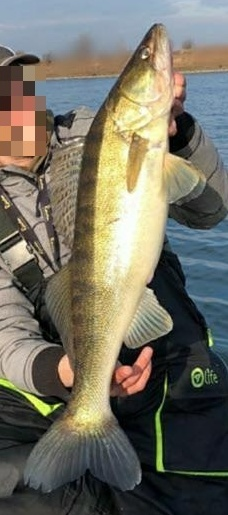Sander lucioperca: (20, 20, 208, 495)
